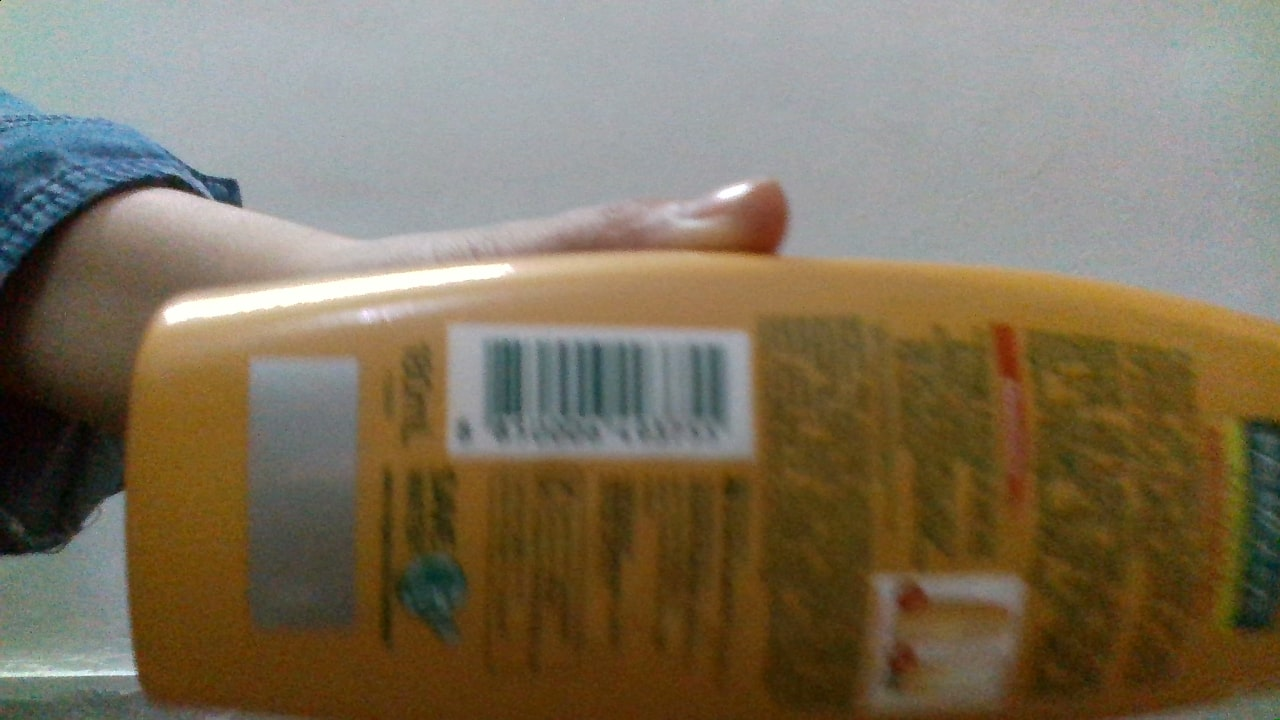Barcode: (477, 331, 740, 450)
